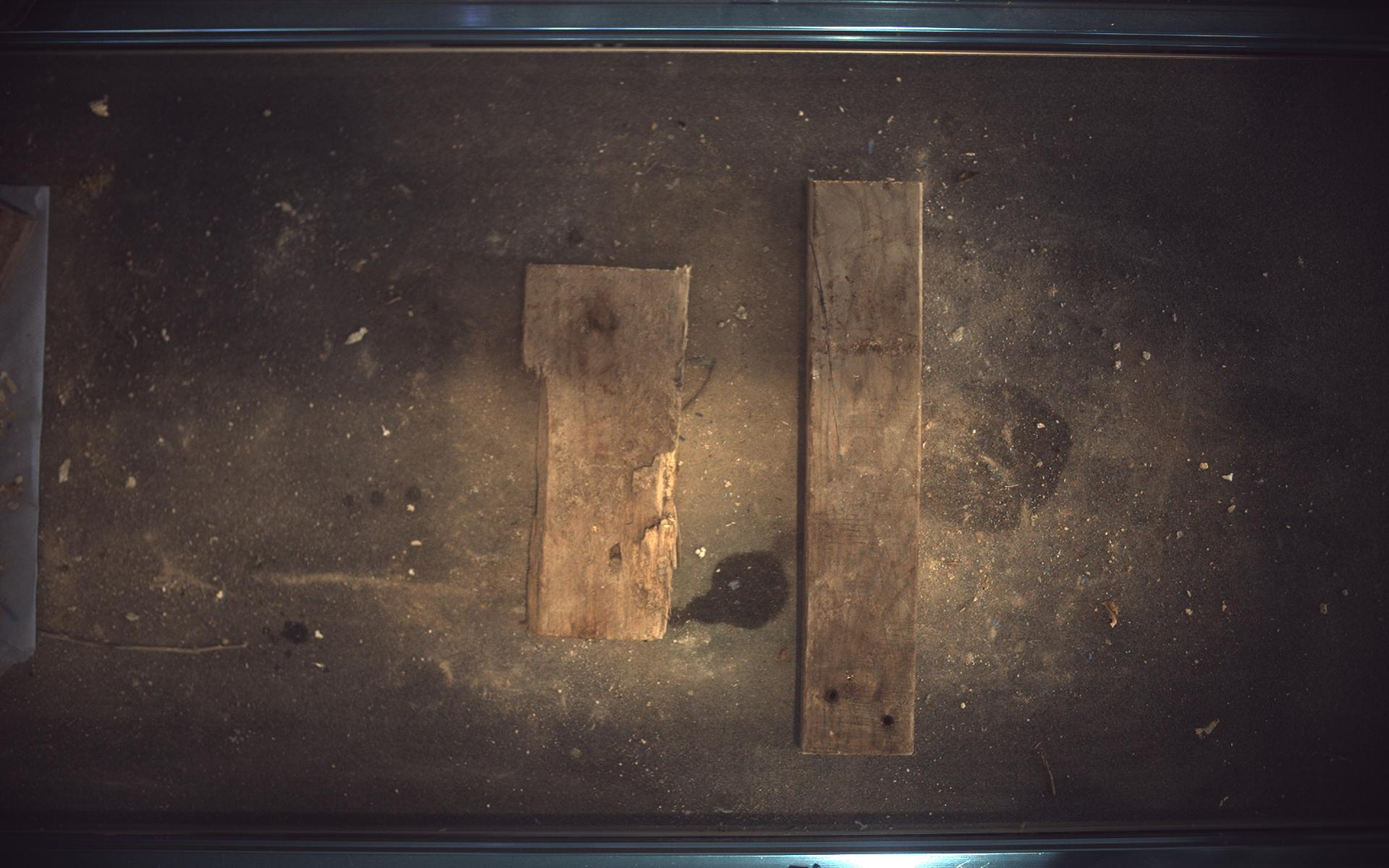wood: (802, 179, 925, 757), (524, 263, 691, 641), (1, 199, 35, 294)
